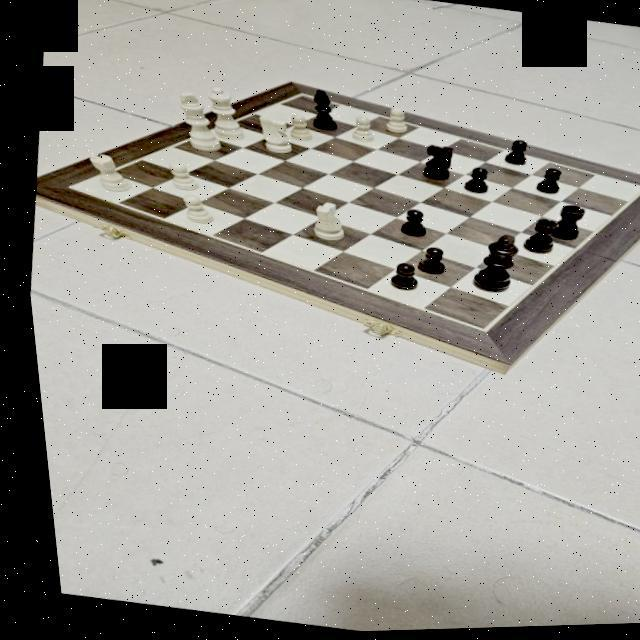chess-table-corners: (466, 328, 486, 338), (58, 184, 75, 192), (293, 92, 307, 100), (631, 186, 640, 196)
